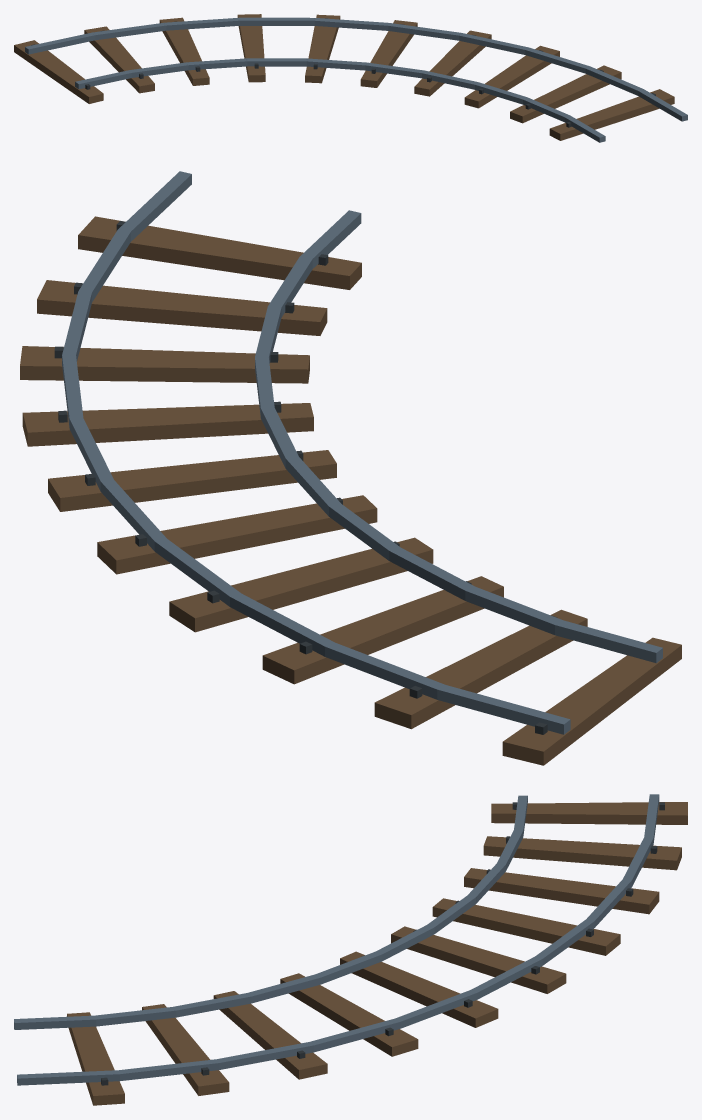
File: Tracks90Right.FBX
The picture shows the model from 3 angles, top to bottom: view 1: azimuth 30°, elevation 25°; view 2: azimuth 150°, elevation 25°; view 3: azimuth 270°, elevation 25°; orthographic projection. The views are drawn at different scales.
Visible parts, largest first — view 1: Box021; view 2: Box021; view 3: Box021.
Part boxes in pixels (x1,y1,x2,y2): Box021: (14,14,687,142); Box021: (20,171,681,765); Box021: (14,794,687,1105).
Size of the model in its own units: 7.54 by 0.2086 by 7.3.
